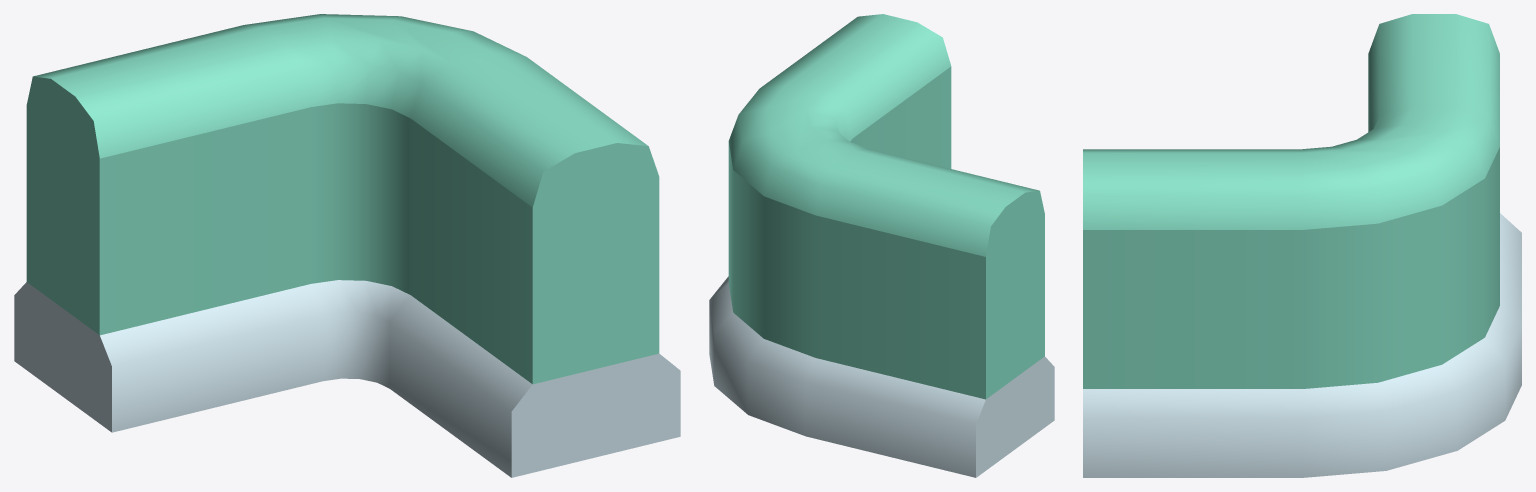
The picture shows the model from 3 angles, left to right: view 1: azimuth 30°, elevation 25°; view 2: azimuth 150°, elevation 25°; view 3: azimuth 270°, elevation 25°; orthographic projection. The views are drawn at different scales.
Parts seen in each view (by area): view 1: hedgeLargeCurved; view 2: hedgeLargeCurved; view 3: hedgeLargeCurved.
Boxes of the visible parts, x1,y1,x2,y2 form: hedgeLargeCurved: (14,14,680,477); hedgeLargeCurved: (709,14,1054,477); hedgeLargeCurved: (1083,14,1521,477).
Bounding box in the file's own units: 1 × 0.7 × 1.
